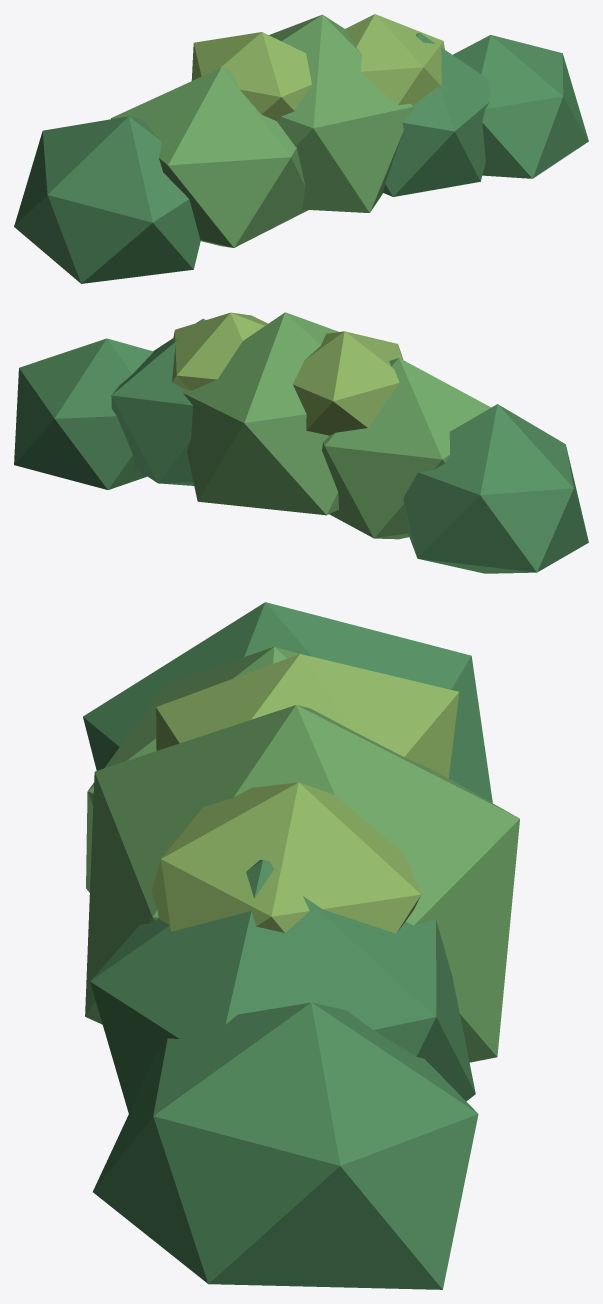
The model's file is Cozy_Bush_04_LongHedge.fbx.
The picture shows the model from 3 angles, top to bottom: view 1: azimuth 30°, elevation 25°; view 2: azimuth 150°, elevation 25°; view 3: azimuth 270°, elevation 25°; orthographic projection. The views are drawn at different scales.
Visible parts, largest first — view 1: Cozy_Bush_04_LongHedge; view 2: Cozy_Bush_04_LongHedge; view 3: Cozy_Bush_04_LongHedge.
Part boxes in pixels (x1,y1,x2,y2): Cozy_Bush_04_LongHedge: (14,14,588,283); Cozy_Bush_04_LongHedge: (14,312,588,573); Cozy_Bush_04_LongHedge: (83,602,519,1289).
Size of the model in its own units: 2.68 by 0.9869 by 0.9549.
